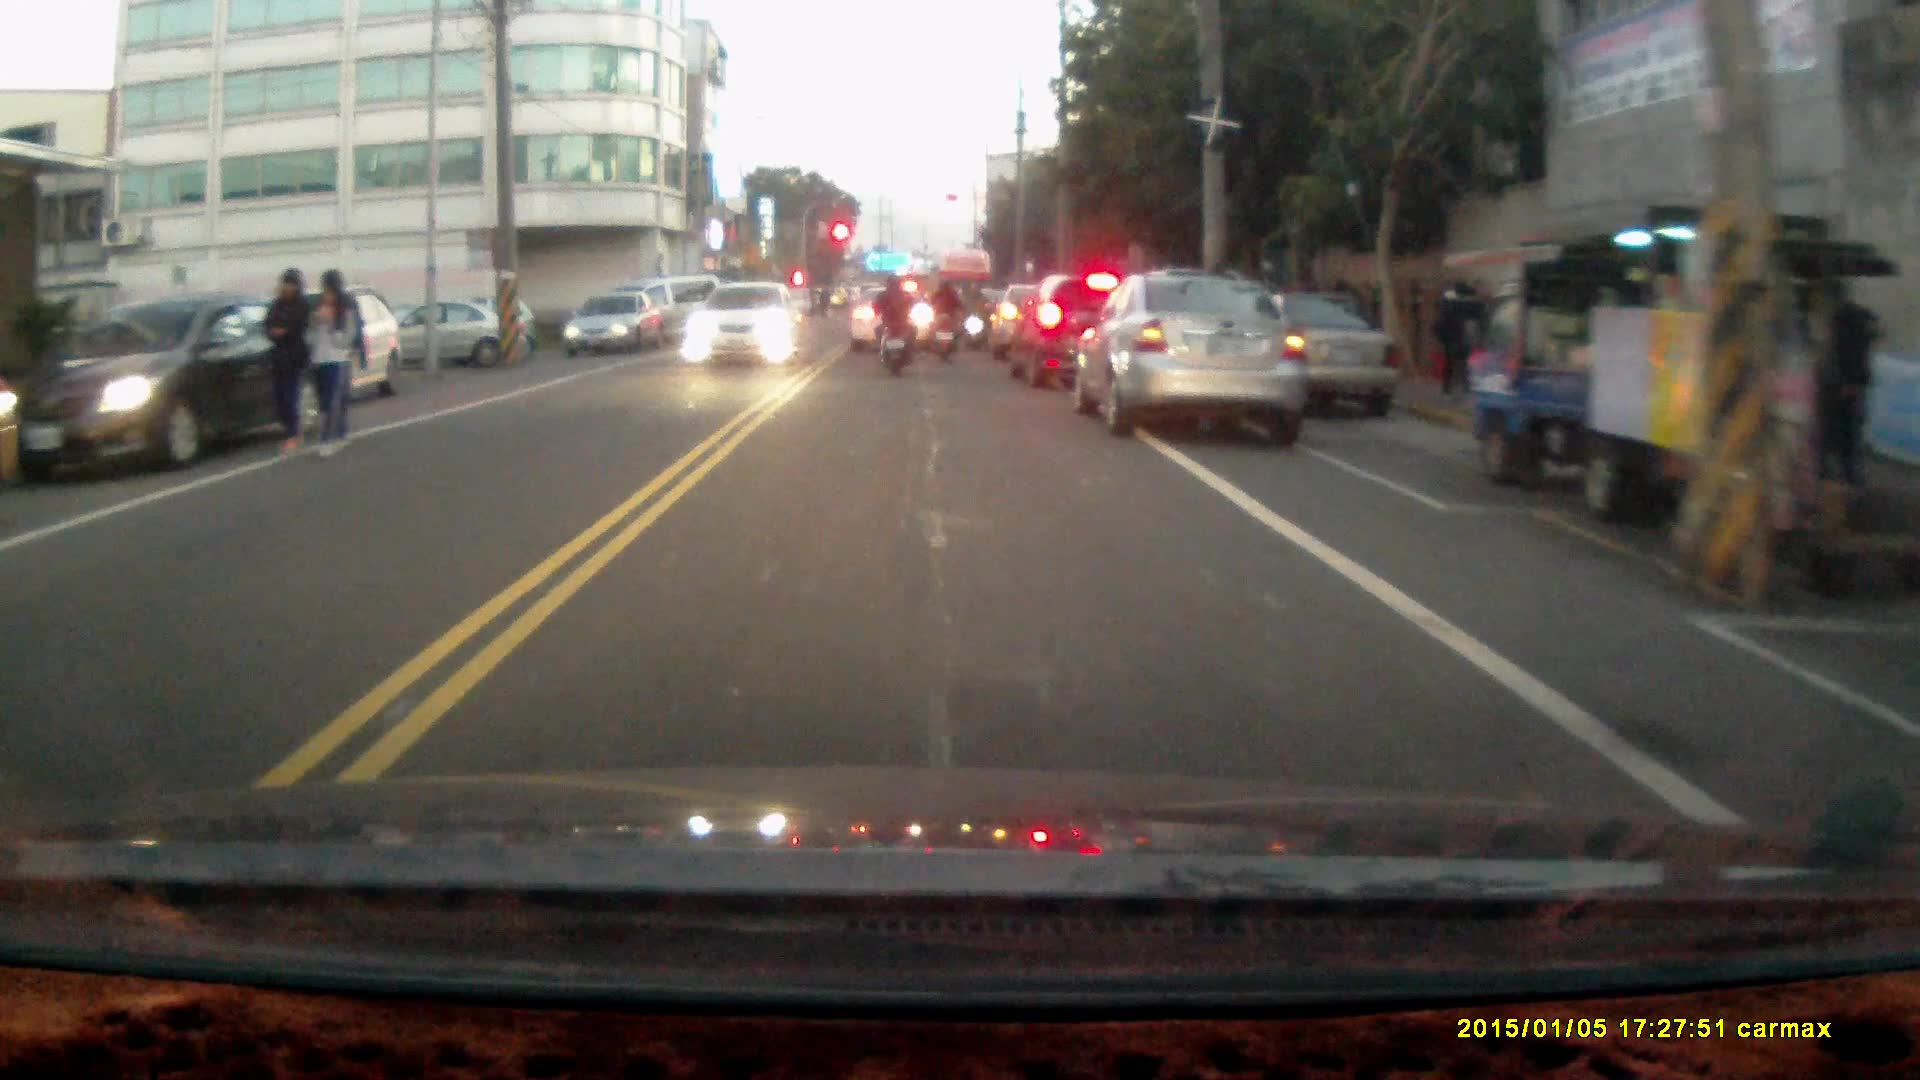pedestrian: (1821, 279, 1882, 492), (304, 268, 357, 457), (259, 265, 307, 455), (1434, 281, 1472, 405)
rider: (869, 271, 914, 378), (925, 276, 963, 361)
vehicle: (1458, 218, 1867, 522), (14, 297, 311, 486), (1083, 277, 1308, 444), (218, 290, 401, 421), (1014, 279, 1174, 398), (681, 288, 800, 375), (562, 298, 656, 364), (850, 294, 938, 360)
